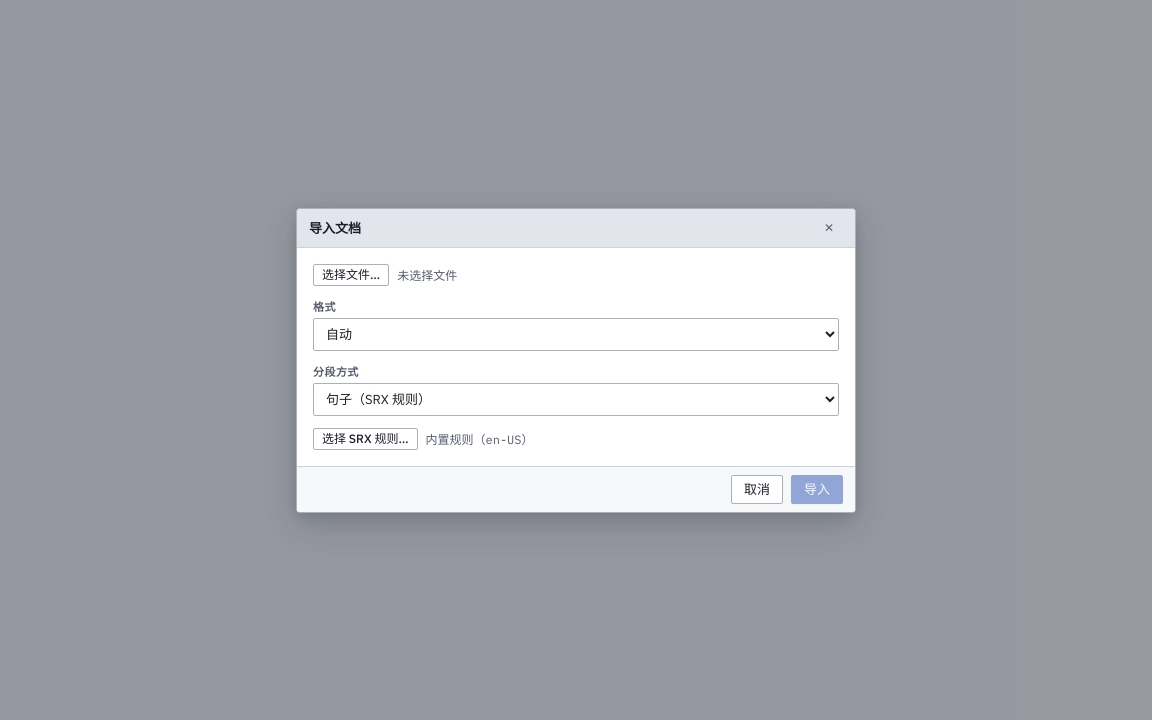
Test case: ImportDocumentDialog › shows the engine error and stays open on failure
Click the button "选择文件…".
click(351, 274)  # box [313, 264, 389, 286]
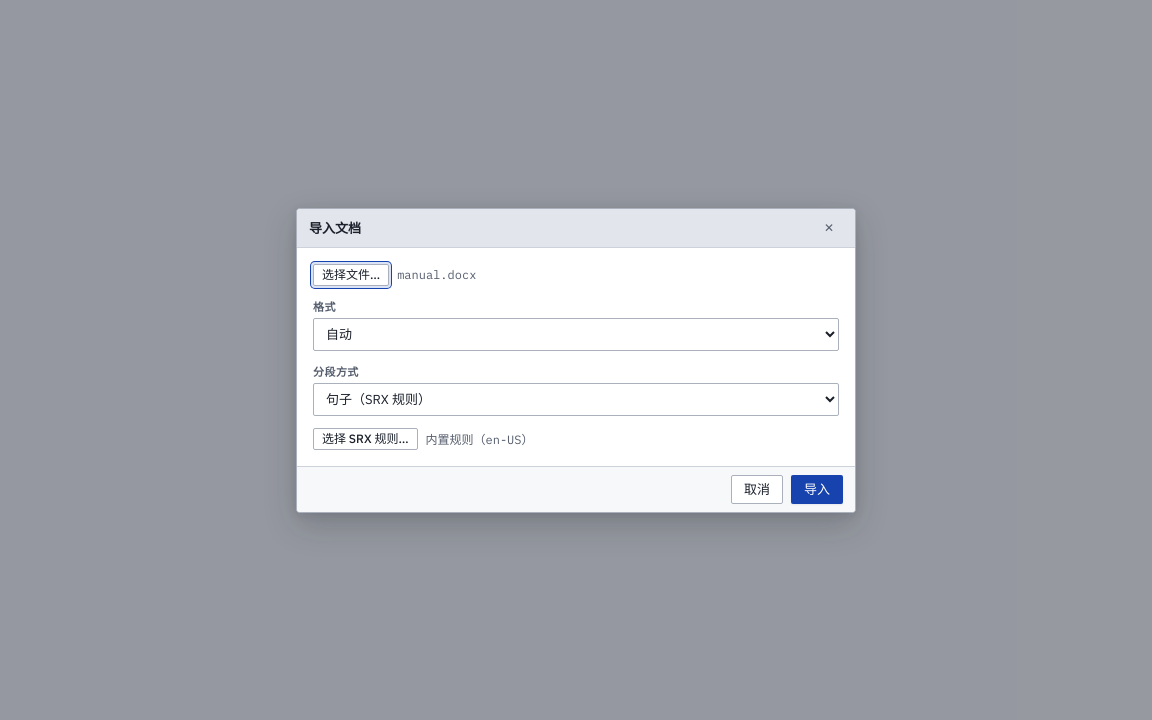
Click the button "导入".
click(817, 489)  # box [791, 474, 843, 504]
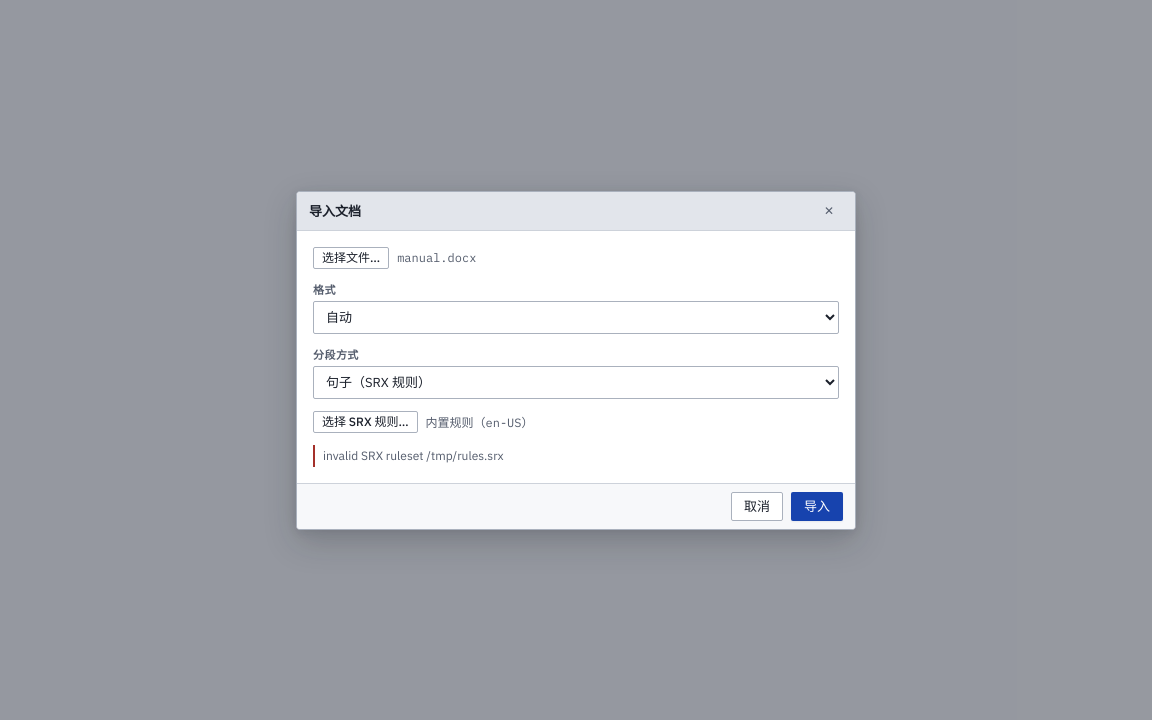
Now the message reads "invalid SRX ruleset /tmp/rules.srx", box [323, 448, 504, 462]
